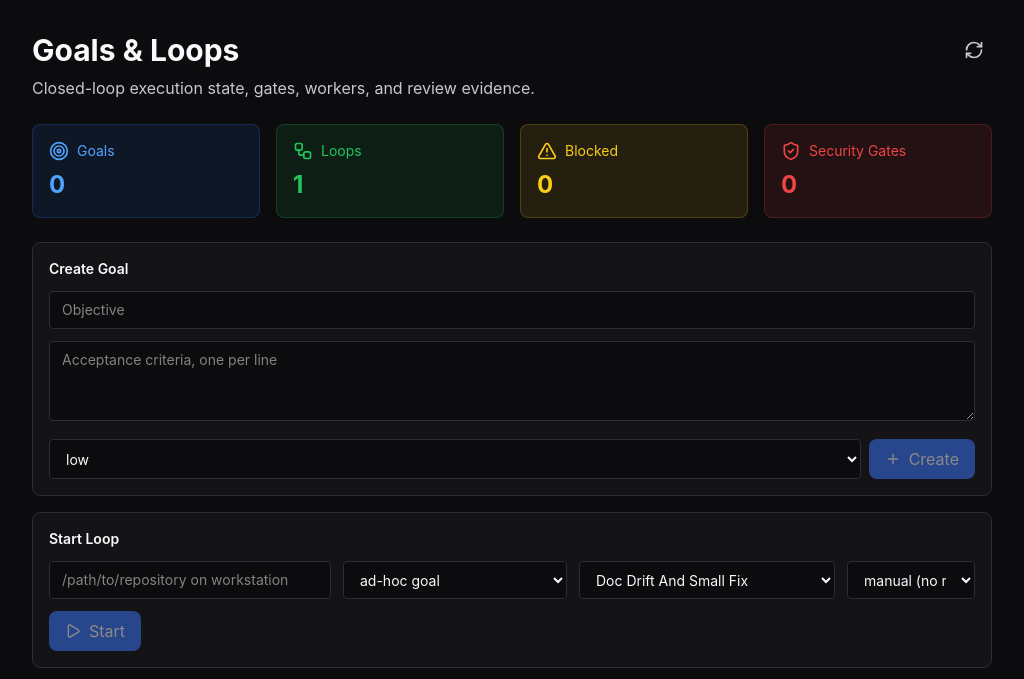
does not offer a manual verdict on a runtime-owned approval continuation
Select "opencode" in the dropdown named "Worker runtime" at (911, 580), box top-left (847, 561), bottom-right (975, 599)
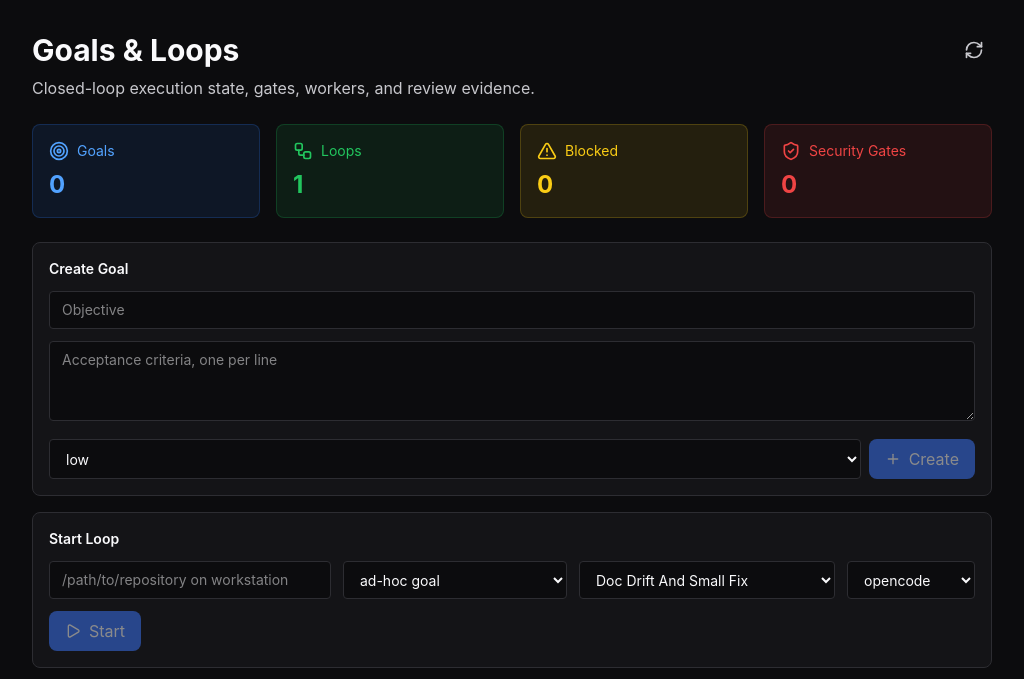
Select "codex" in the dropdown named "Worker runtime" at (911, 580), box top-left (847, 561), bottom-right (975, 599)
(page scrolled)
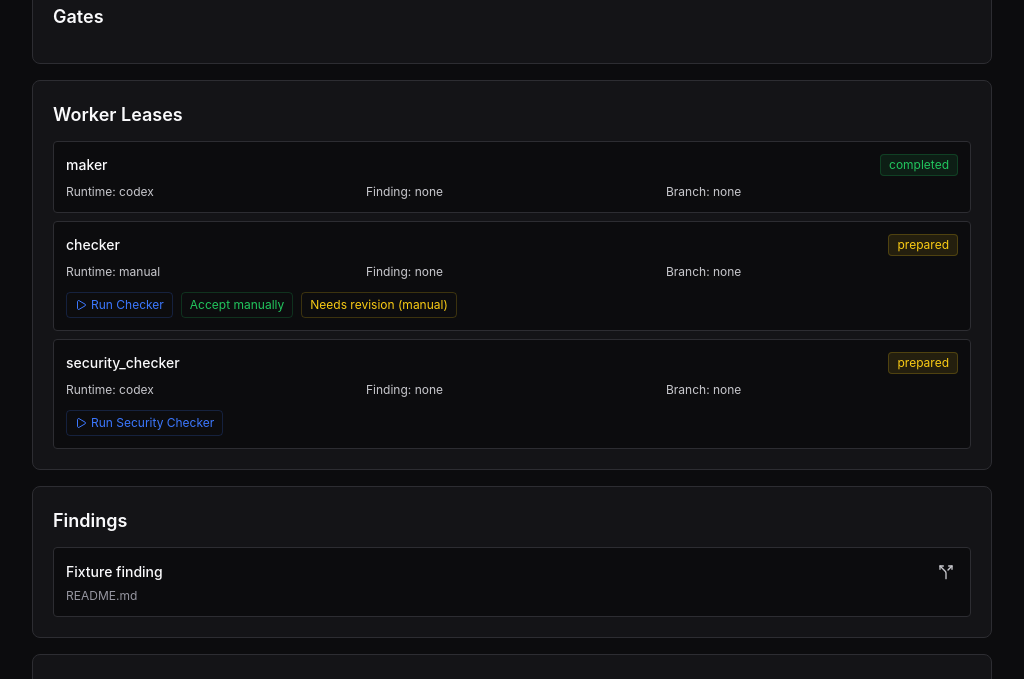
Check: the button "Run Security Checker" is enabled, box top-left (66, 410), bottom-right (223, 436)
